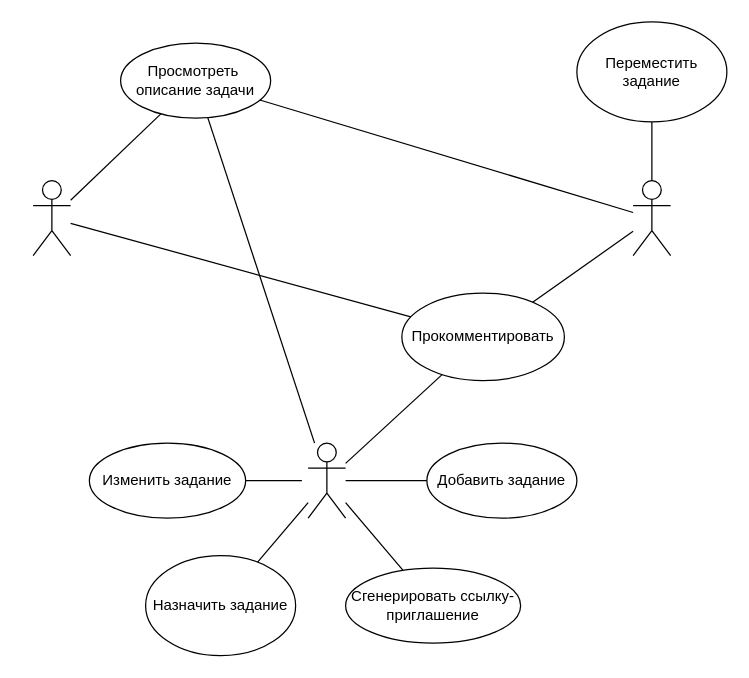
This 749x678 diagram has some shape labels left out. The shapes that lost their labels are listed below. From the top down, each one's centre as x and y in pixels, then its label:
(x=51, y=217): Заказчик
(x=651, y=217): Разработчик
(x=326, y=480): Тимлид
